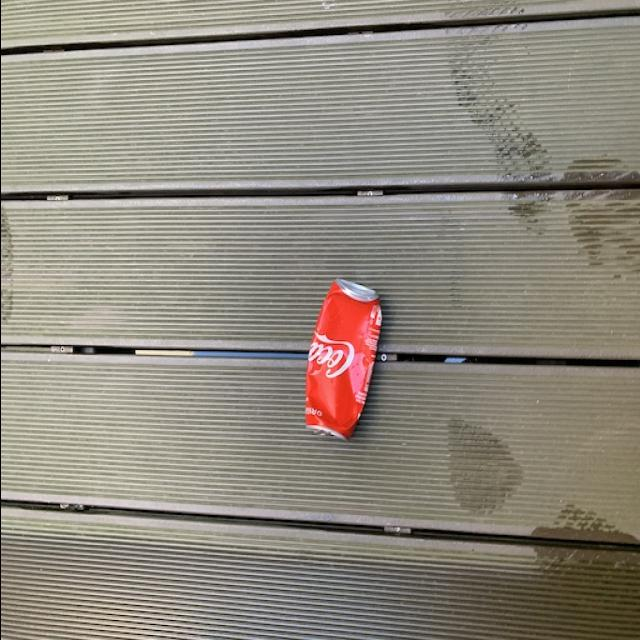litter: (301, 264, 388, 458)
